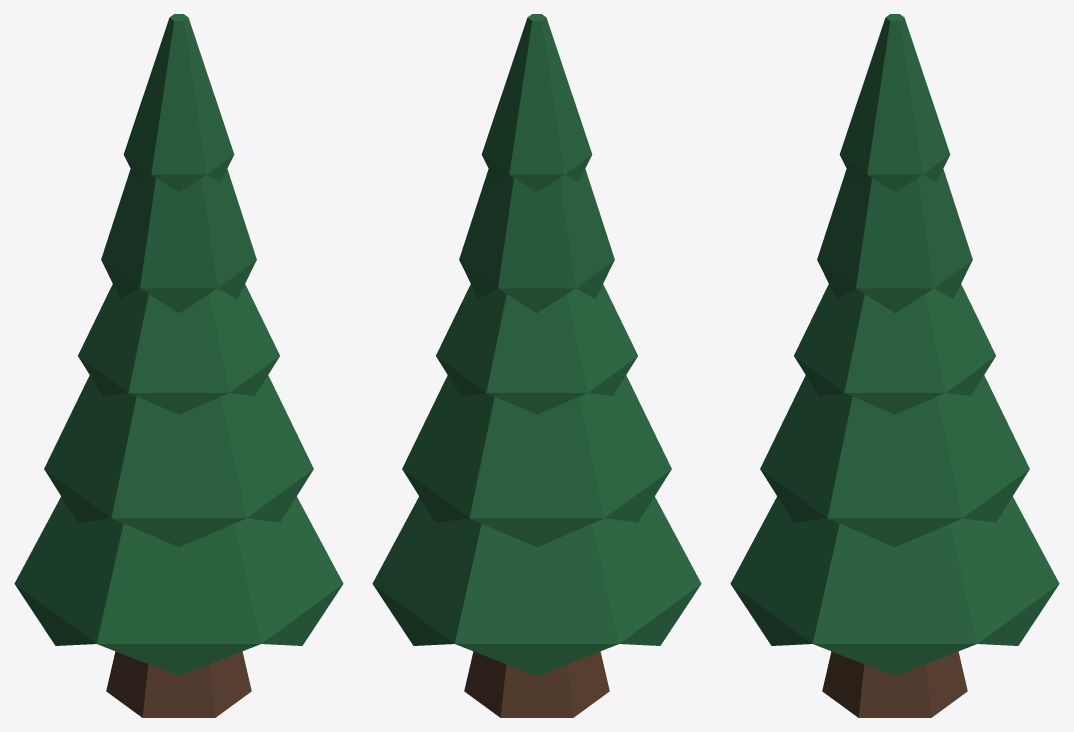
The model's file is tree_pineRoundC.glb.
The picture shows the model from 3 angles, left to right: view 1: azimuth 30°, elevation 25°; view 2: azimuth 150°, elevation 25°; view 3: azimuth 270°, elevation 25°; orthographic projection.
Visible parts, largest first — view 1: tree_pineRoundC; view 2: tree_pineRoundC; view 3: tree_pineRoundC.
Part boxes in pixels (<box>): tree_pineRoundC: <box>14,14,343,717</box>; tree_pineRoundC: <box>372,14,701,717</box>; tree_pineRoundC: <box>730,14,1059,717</box>.
Bounding box in the file's own units: 0.4804 × 1.25 × 0.5547.
